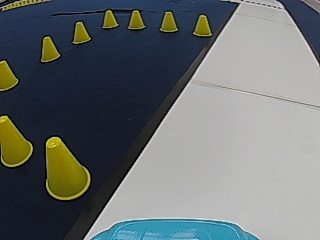cone: (44, 137, 90, 199), (1, 115, 33, 167), (0, 60, 18, 90), (40, 35, 60, 62), (72, 21, 91, 44), (193, 14, 212, 37), (160, 11, 178, 33), (101, 10, 119, 30), (127, 10, 145, 30)
